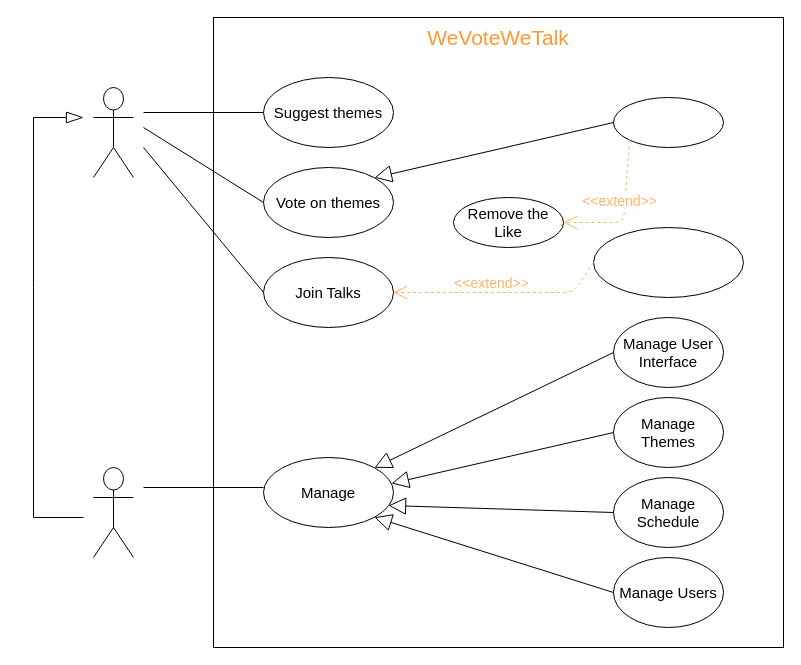
Some shapes in this 801 by 665 pixel diagram are drawn without their labels. Here are the shapes that lost their labels. From the top down, the centre of each, then its label:
At (113,132): "User".
At (668,122): "Like a theme".
At (668,262): "Change username, audio, video settings".
At (113,512): "Moderator".
